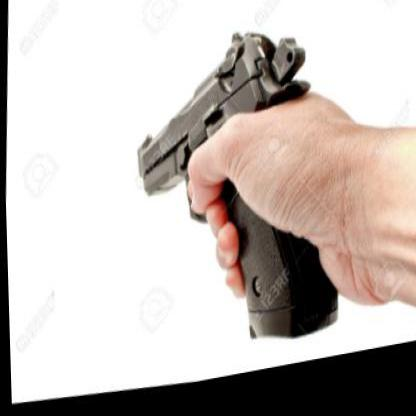pistol: (123, 0, 354, 376)
